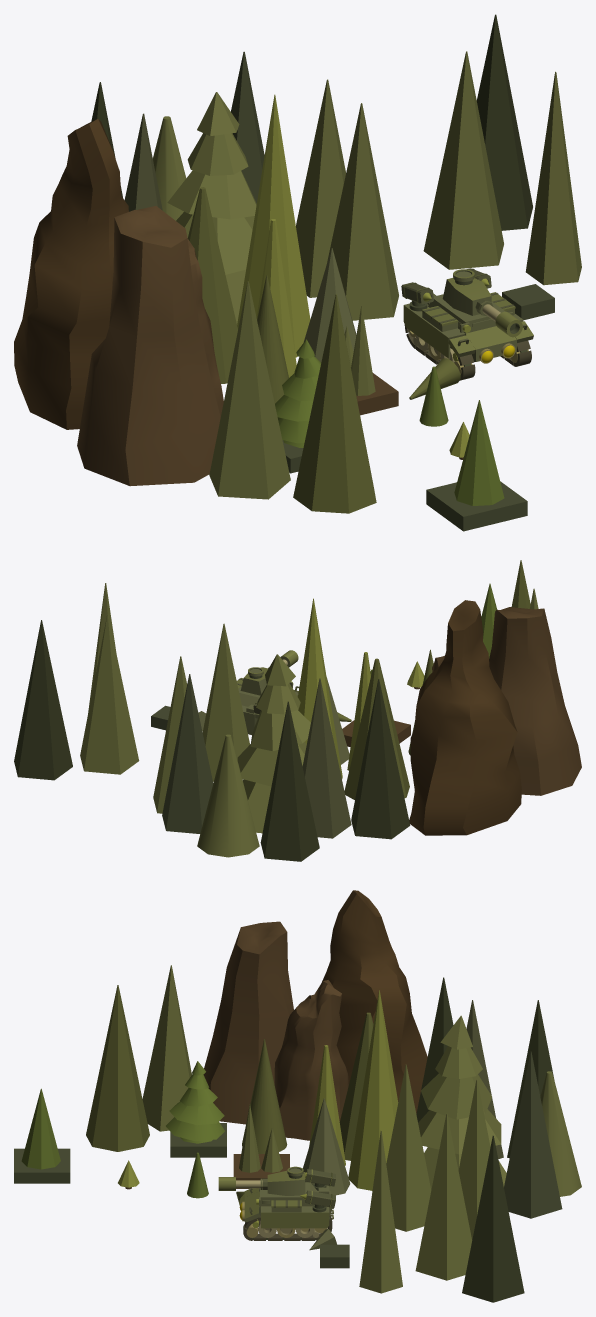
File: Tank and trees (sketchfab).fbx
3 renders of one model, top to bottom at view 1: azimuth 30°, elevation 25°; view 2: azimuth 150°, elevation 25°; view 3: azimuth 270°, elevation 25°, orthographic. The views are drawn at different scales.
Visible parts, largest first — view 1: Cone_4, Cone_3, Cone_27, Cone_26, Cone_9, Cone_6, Cone_4_2, Cone_10, Cone_11, Cone_19, Cone_3_3, Cone_16 (+22 smaller); view 2: Cone_3, Cone_4, Cone_9, Cone_11, Cone_15, Cone_13, Cone_8, Cone_12, Cone_14, Cone_6, Cone_3_3, Cone_4_2 (+14 smaller); view 3: Cone_4, Cone_3, Cone_2_2, Cone_27, Cone_11, Cone_8, Cone_9, Cone_4_2, Cone_6, Cone_26, Cone_10, Cone_19 (+27 smaller).
Part boxes in pixels (x1,y1,x2,y2): Cone_4: (77, 206, 220, 486); Cone_3: (14, 119, 128, 429); Cone_27: (293, 294, 376, 513); Cone_26: (209, 281, 290, 499); Cone_9: (423, 51, 503, 269); Cone_6: (327, 103, 398, 320); Cone_4_2: (237, 94, 310, 357); Cone_10: (525, 71, 581, 285); Cone_11: (476, 14, 532, 230); Cone_19: (296, 79, 345, 297); Cone_3_3: (187, 187, 237, 383); Cone_16: (454, 400, 504, 505); Cone_3: (409, 600, 521, 835); Cone_4: (489, 607, 581, 795); Cone_9: (80, 614, 139, 774); Cone_11: (14, 620, 72, 780); Cone_15: (351, 679, 410, 839); Cone_13: (260, 701, 319, 861); Cone_8: (162, 674, 213, 833); Cone_12: (197, 734, 259, 857); Cone_14: (302, 678, 351, 838); Cone_6: (202, 623, 249, 781); Cone_3_3: (344, 658, 409, 799); Cone_4_2: (298, 598, 342, 778); Cone_4: (203, 921, 293, 1124); Cone_3: (322, 890, 427, 1113); Cone_2_2: (274, 980, 348, 1140); Cone_27: (86, 985, 149, 1151); Cone_11: (462, 1135, 524, 1302); Cone_8: (504, 1051, 562, 1218); Cone_9: (415, 1113, 472, 1280); Cone_4_2: (348, 990, 398, 1190); Cone_6: (386, 1064, 431, 1231); Cone_26: (142, 965, 191, 1131); Cone_10: (359, 1130, 402, 1293); Cone_19: (458, 1079, 490, 1239).
Bounding box in the file's own units: 4487 × 2096 × 4802.
